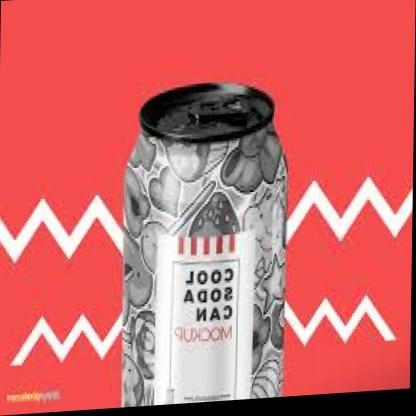trash: (124, 83, 286, 405)
